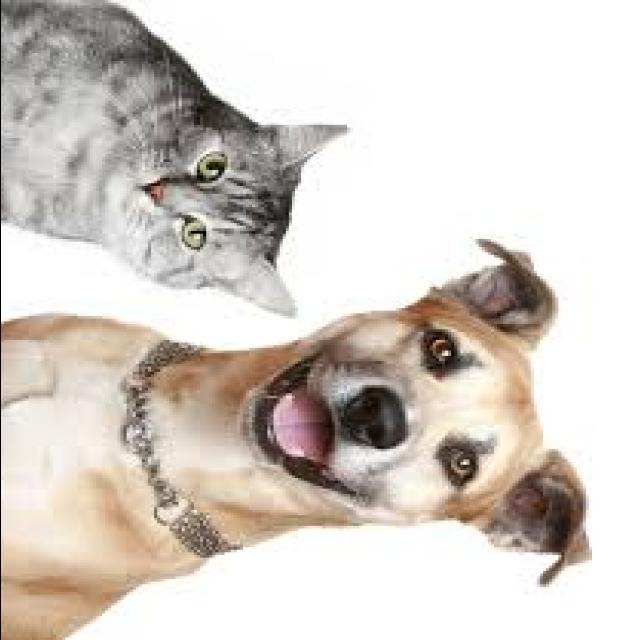cat: (0, 0, 359, 318)
dog: (0, 239, 600, 640)
